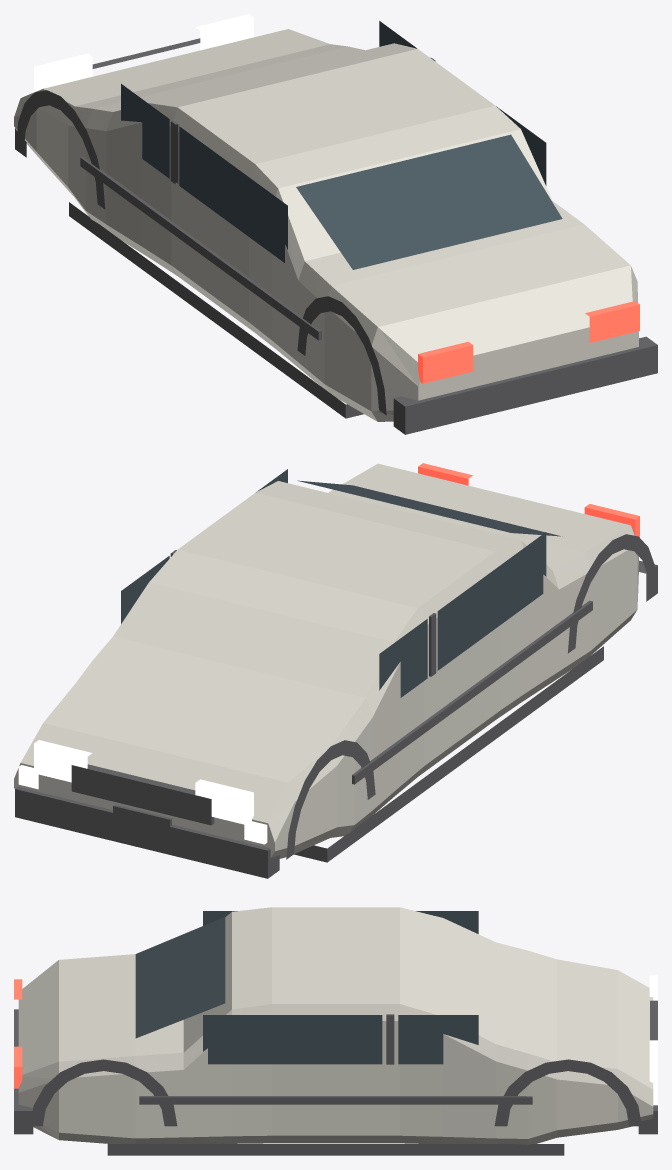
The model's file is zastava_boxy.glb.
3 views of the same model, one above another, from view 1: azimuth 30°, elevation 25°; view 2: azimuth 150°, elevation 25°; view 3: azimuth 270°, elevation 25° (orthographic). The views are drawn at different scales.
Visible parts, largest first — view 1: car_body; view 2: car_body; view 3: car_body.
Part boxes in pixels (x1,y1,x2,y2): car_body: (14, 14, 657, 434); car_body: (14, 463, 657, 878); car_body: (14, 907, 657, 1155).
Size of the model in its own units: 1.63 by 1.02 by 4.02.
